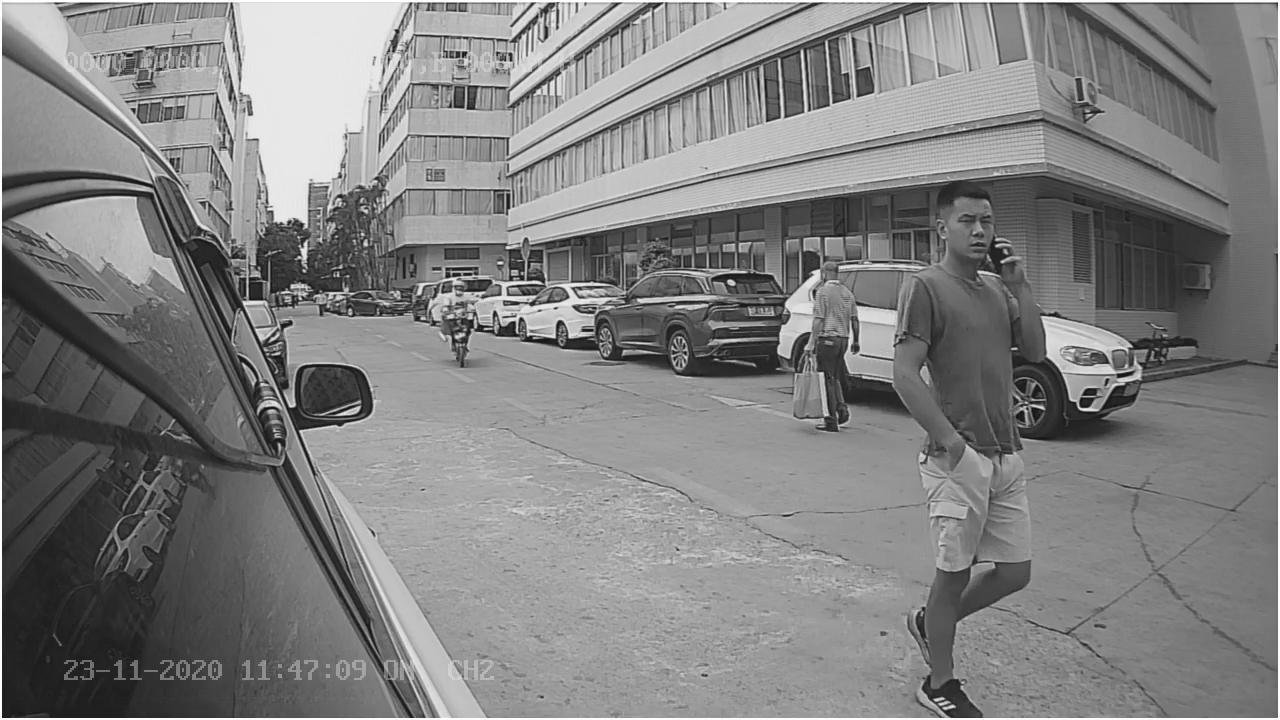person: (883, 166, 1044, 715)
